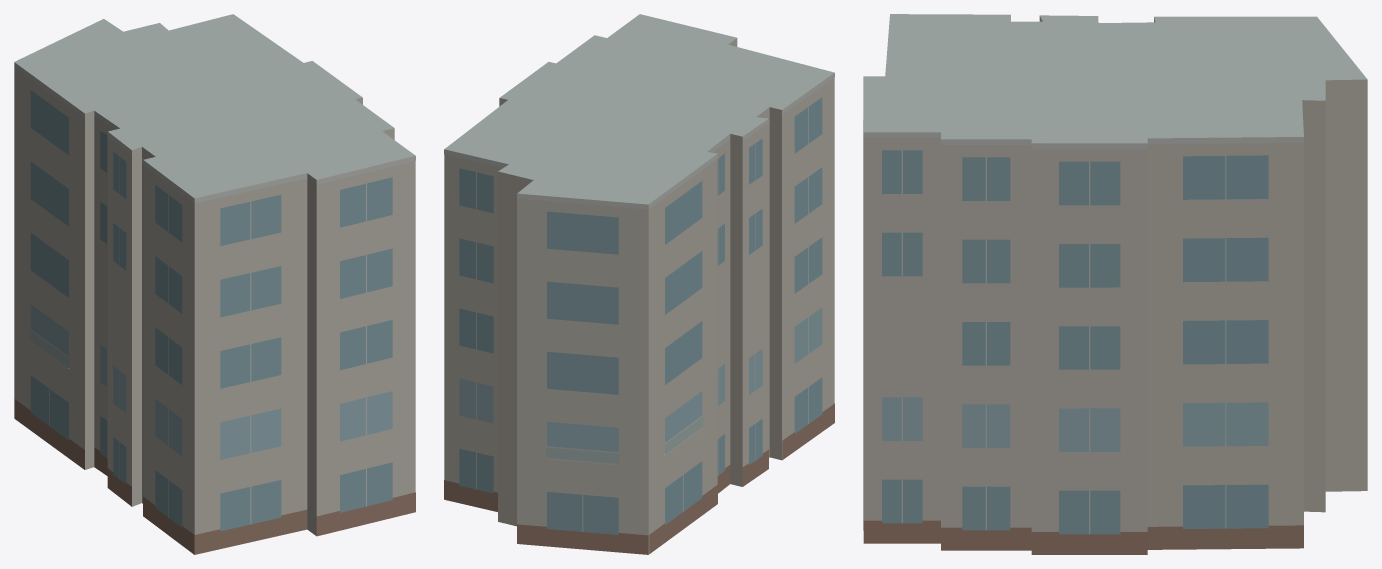
File: survey-upis-32723471.glb
3 views of the same model, side by side, from view 1: azimuth 30°, elevation 25°; view 2: azimuth 150°, elevation 25°; view 3: azimuth 270°, elevation 25° (orthographic). The views are drawn at different scales.
Visible parts, largest first — view 1: survey-upis-32723471.tmp; view 2: survey-upis-32723471.tmp; view 3: survey-upis-32723471.tmp.
Boxes of the visible parts, <box> form: survey-upis-32723471.tmp: <box>14,14,415,554</box>; survey-upis-32723471.tmp: <box>444,14,834,554</box>; survey-upis-32723471.tmp: <box>863,14,1367,554</box>.
Bounding box in the file's own units: 11.54 × 17.1 × 19.01.
